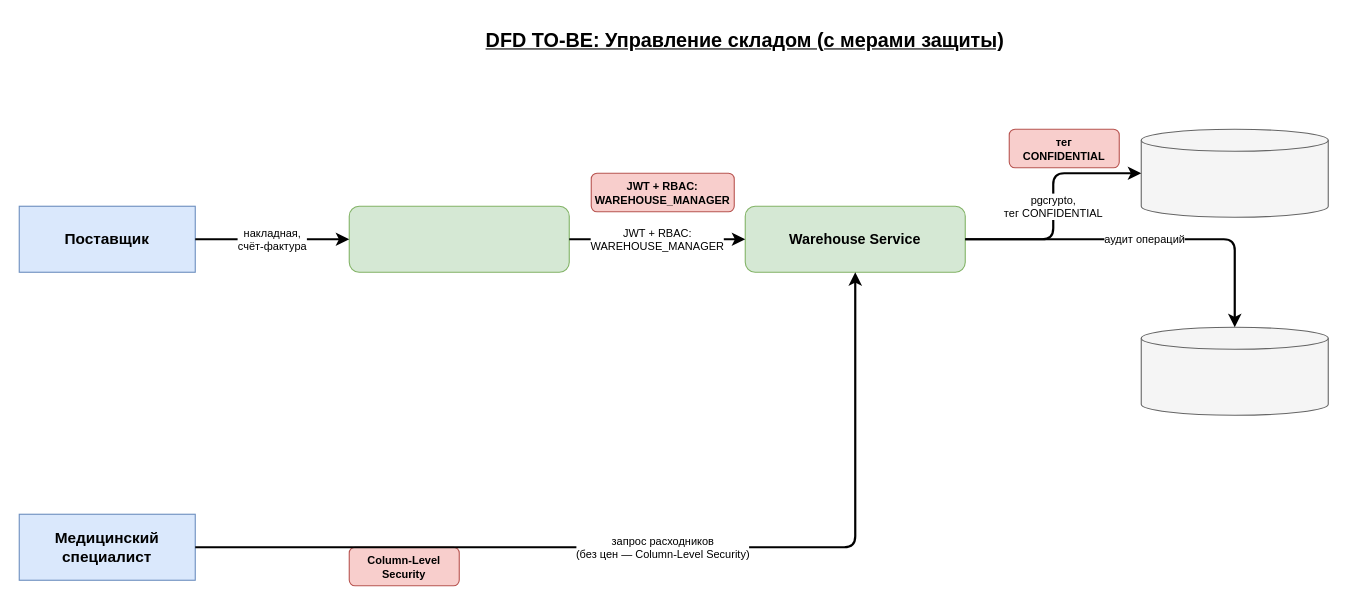
This 1348x605 diagram has some shape labels left out. Here are the shapes that lost their labels. From the top down, the box of each, then its label:
(1140, 128, 1328, 217): PostgreSQL: warehouse
(348, 205, 569, 272): ERP API
(1140, 326, 1328, 415): Audit Log
